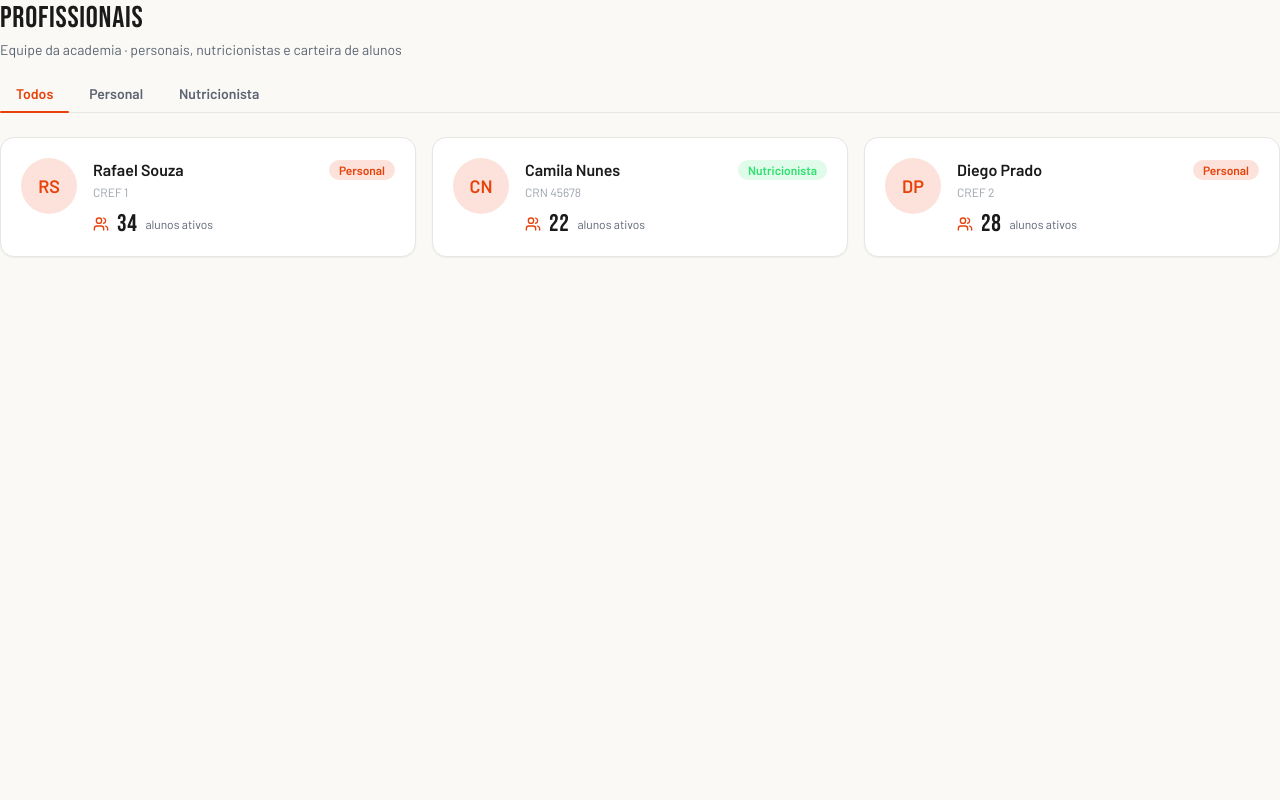
ProfissionaisView › abre a carteira com os alunos derivados das fichas ao clicar no card
Expected: the heading "Rafael Souza" is shown, [93, 158, 184, 182]
Step 1. Click the button "RS Rafael Souza Personal CREF 1 34 alunos ativos" → (49, 186), box [0, 137, 416, 257]
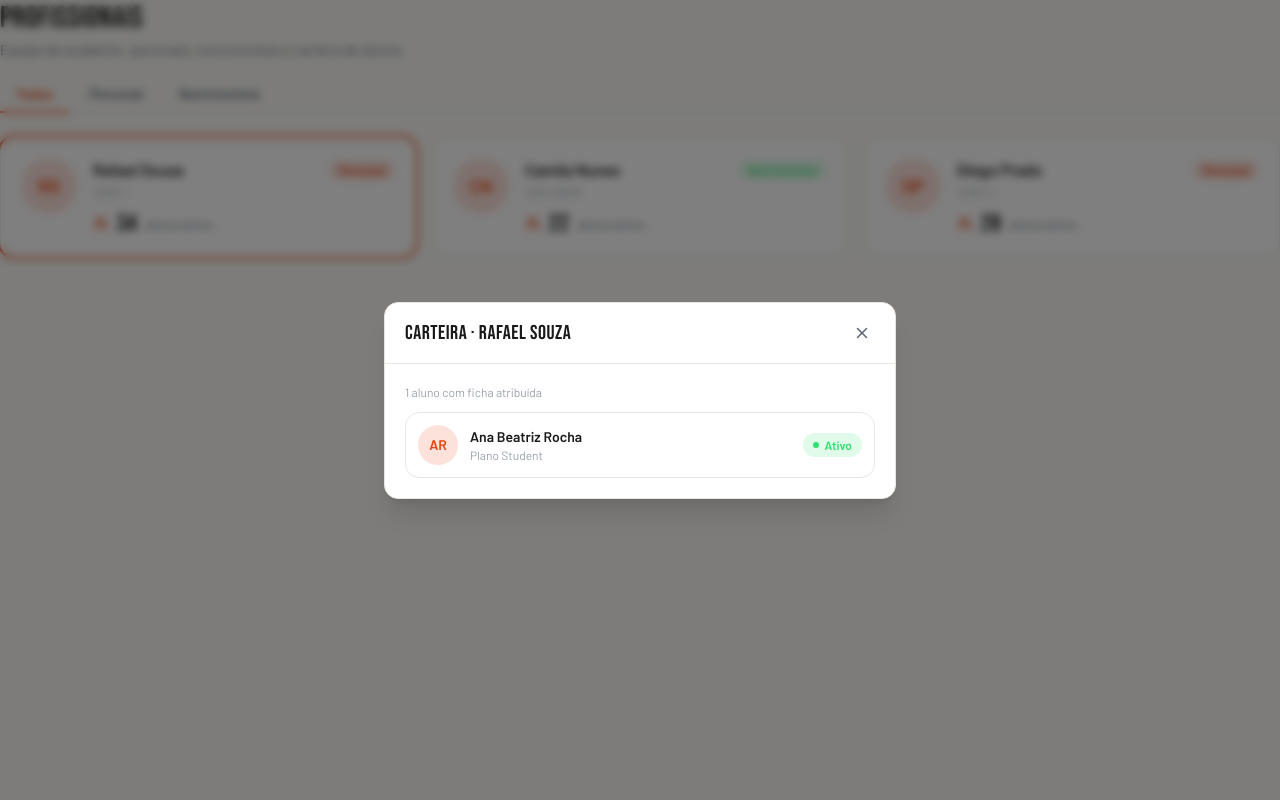
Expected: the text "Ana Beatriz Rocha" is shown, [470, 428, 582, 444]
